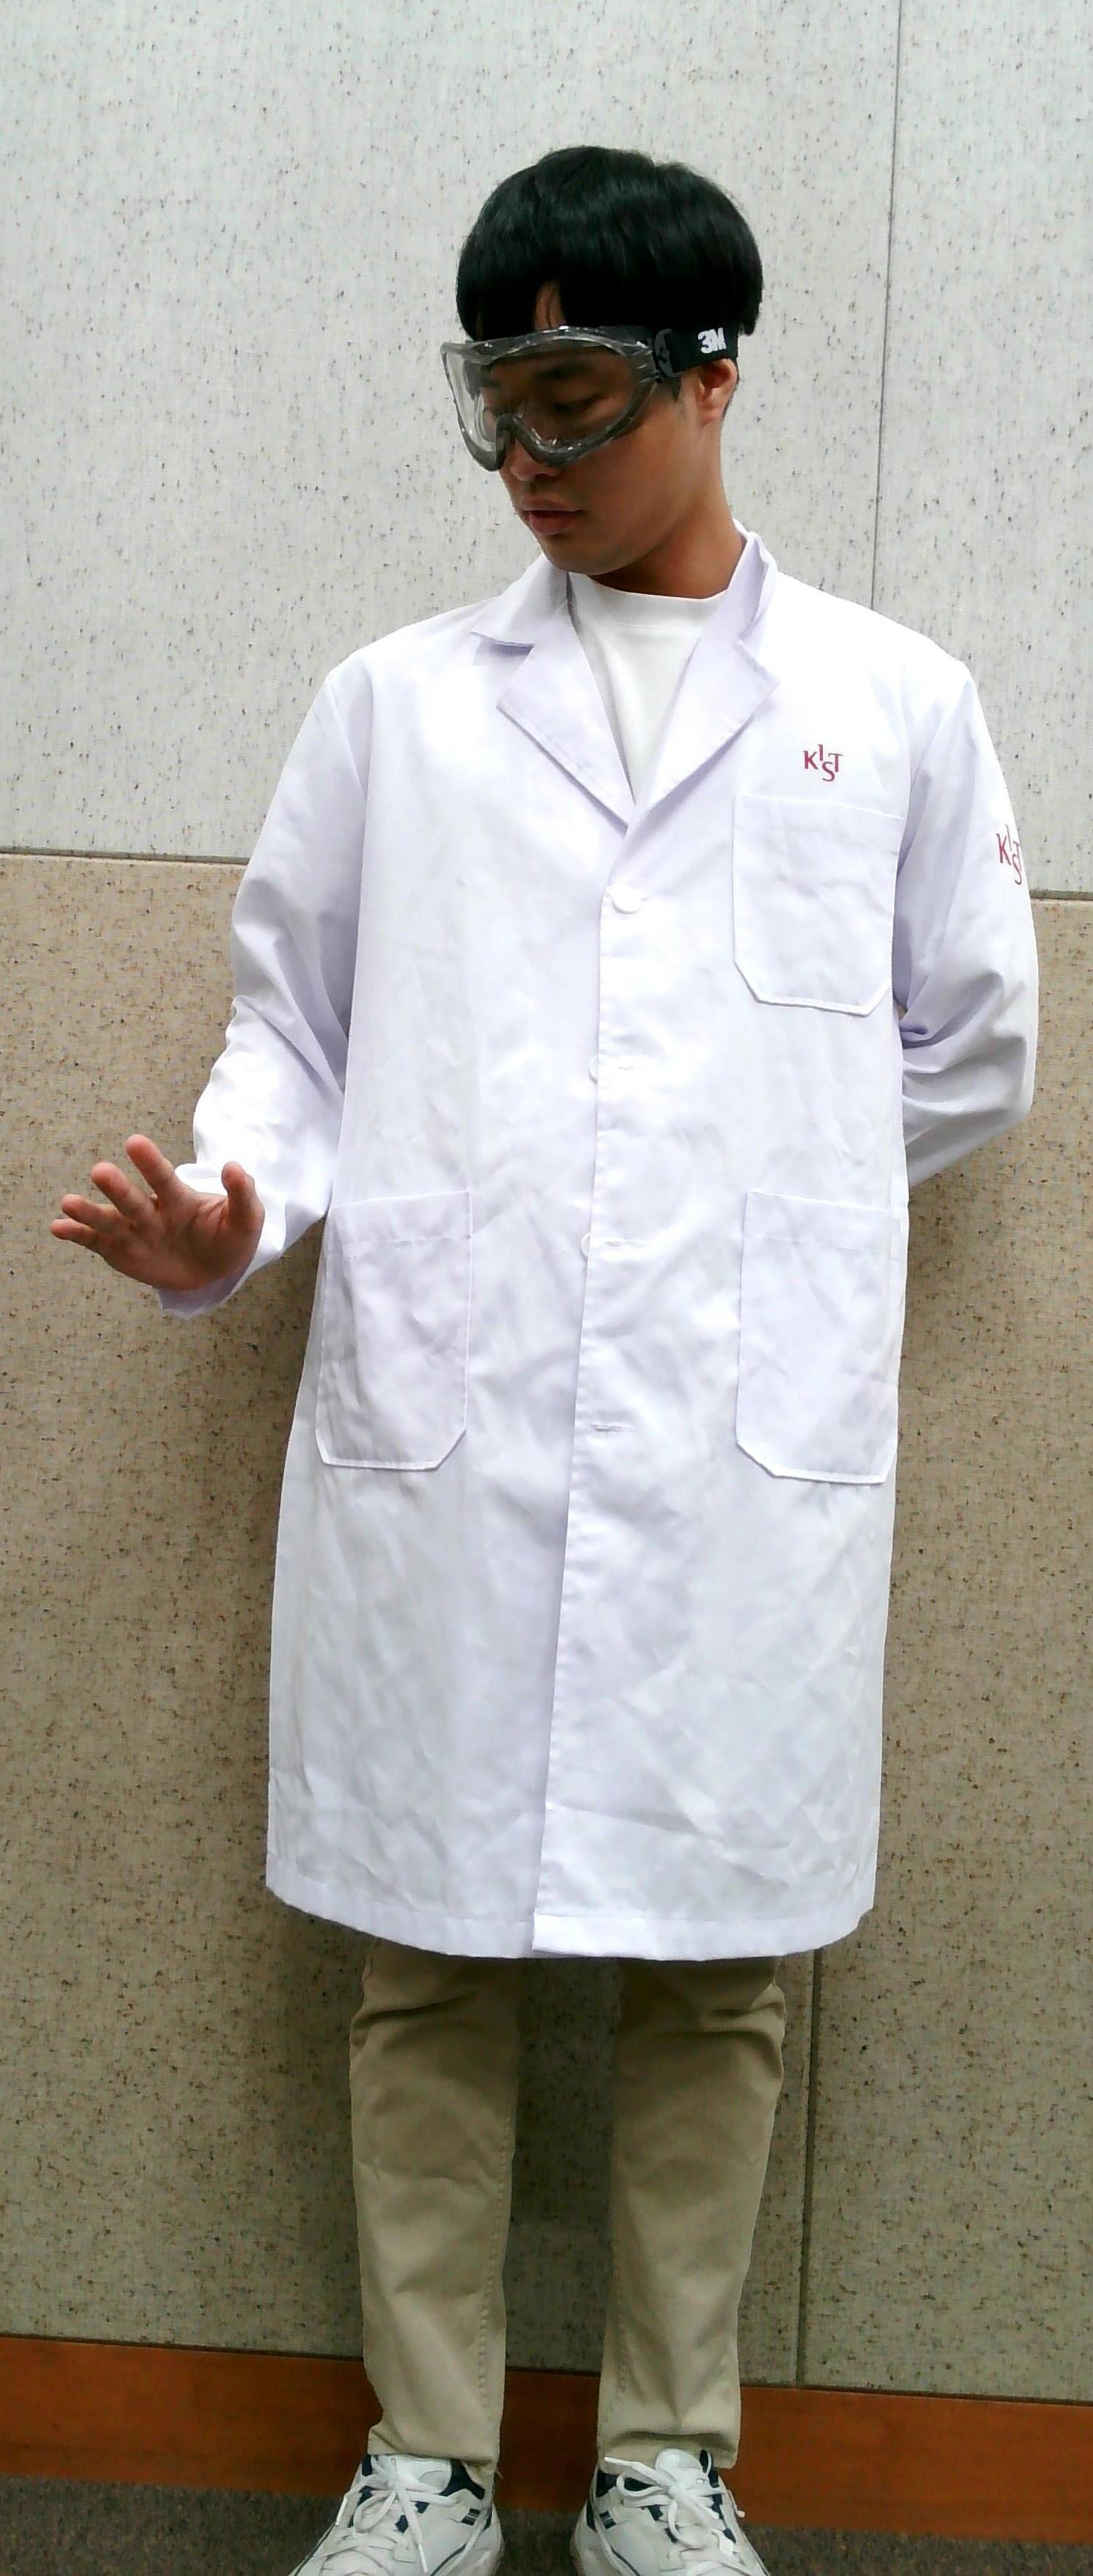lab_coat: (287, 685, 906, 1914)
